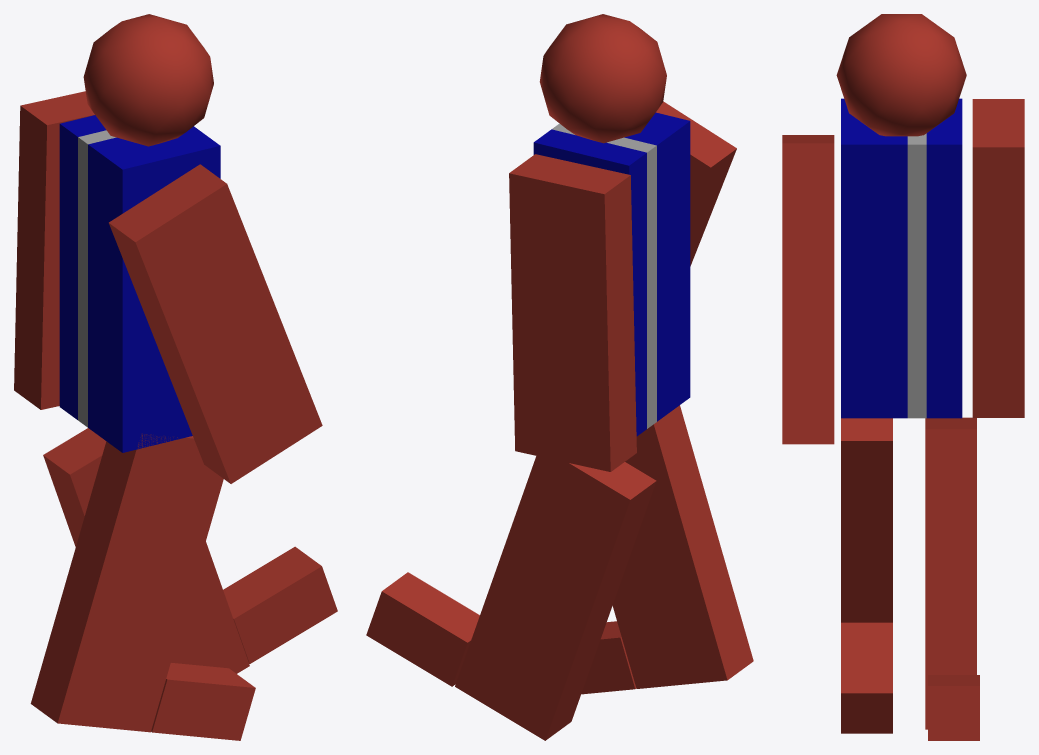
Rendered from player_000050.obj.
3 views of the same model, side by side, from view 1: azimuth 30°, elevation 25°; view 2: azimuth 150°, elevation 25°; view 3: azimuth 270°, elevation 25° (orthographic). The views are drawn at different scales.
Visible parts, largest first — view 1: Cube.005, Cube.001, Cube, Cube.006, Icosphere, Cube.002, Cube.004, Cube.003; view 2: Cube.006, Cube.002, Cube.001, Cube, Icosphere, Cube.004, Cube.005, Cube.003; view 3: Cube, Cube.006, Cube.005, Cube.002, Icosphere, Cube.001, Cube.003, Cube.004.
Boxes of the visible parts, left/top/right/bottom form: Cube.005: left=109, top=164, right=322, bottom=483; Cube.001: left=30, top=433, right=223, bottom=732; Cube: left=59, top=115, right=220, bottom=452; Cube.006: left=14, top=91, right=94, bottom=409; Icosphere: left=83, top=14, right=213, bottom=146; Cube.002: left=43, top=428, right=249, bottom=673; Cube.004: left=223, top=546, right=337, bottom=663; Cube.003: left=151, top=663, right=255, bottom=740; Cube.006: left=509, top=154, right=636, bottom=471; Cube.002: left=455, top=456, right=656, bottom=740; Cube.001: left=612, top=405, right=753, bottom=688; Cube: left=533, top=112, right=690, bottom=436; Icosphere: left=539, top=14, right=666, bottom=143; Cube.004: left=366, top=572, right=479, bottom=686; Cube.005: left=656, top=101, right=736, bottom=266; Cube.003: left=581, top=621, right=636, bottom=694; Cube: left=841, top=98, right=962, bottom=418; Cube.006: left=972, top=99, right=1024, bottom=417; Cube.005: left=782, top=135, right=834, bottom=444; Cube.002: left=925, top=417, right=976, bottom=729; Icosphere: left=836, top=14, right=966, bottom=136; Cube.001: left=841, top=418, right=892, bottom=622; Cube.003: left=841, top=622, right=892, bottom=733; Cube.004: left=928, top=675, right=979, bottom=740.
Size of the model in its own units: 1.37 by 2.87 by 0.9137.
